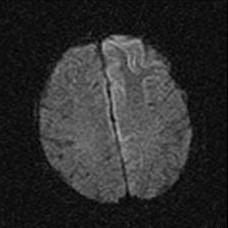Normal_Brain: (4, 1, 228, 228)
